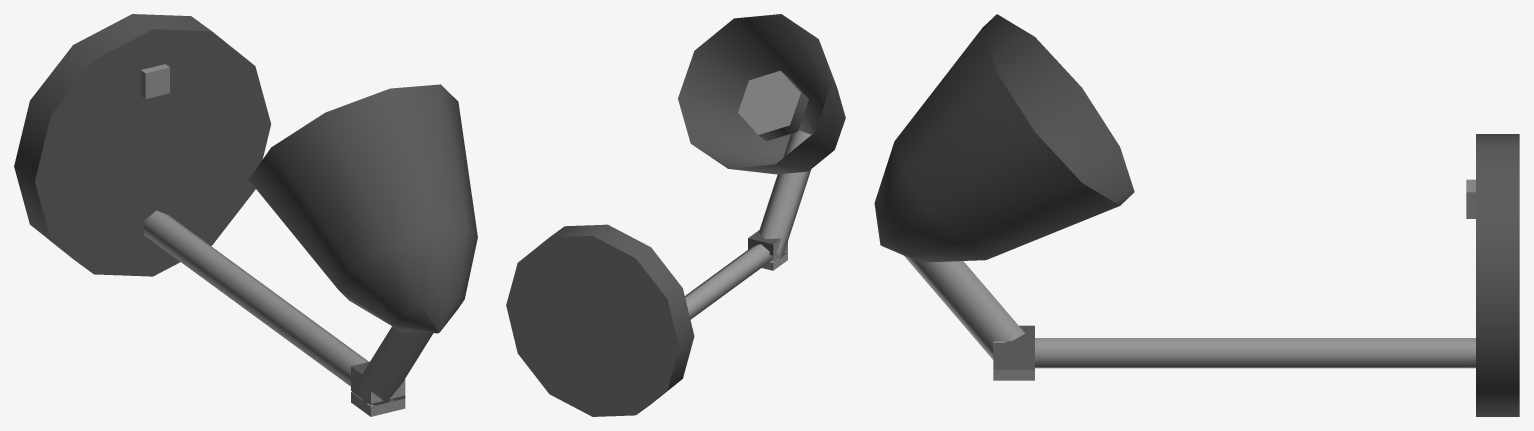
3 views of the same model, side by side, from view 1: azimuth 30°, elevation 25°; view 2: azimuth 150°, elevation 25°; view 3: azimuth 270°, elevation 25° (orthographic). The views are drawn at different scales.
Bounding box in the file's own units: 0.288 × 0.4209 × 0.6536.
